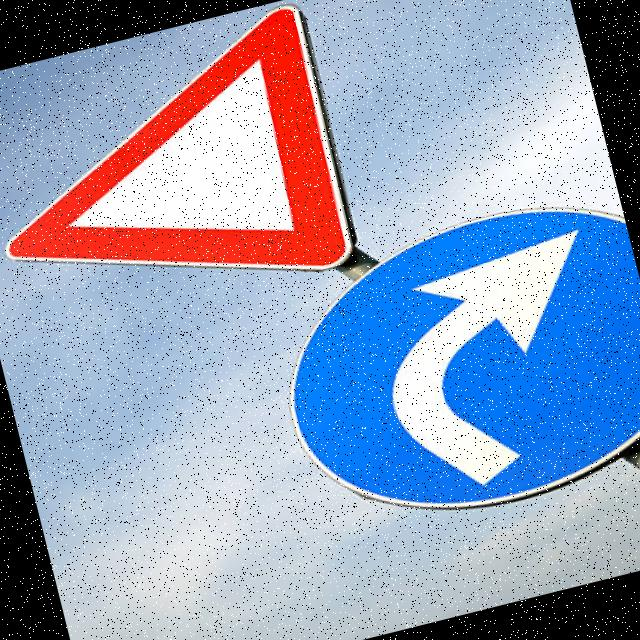give_way: (0, 0, 429, 357)
